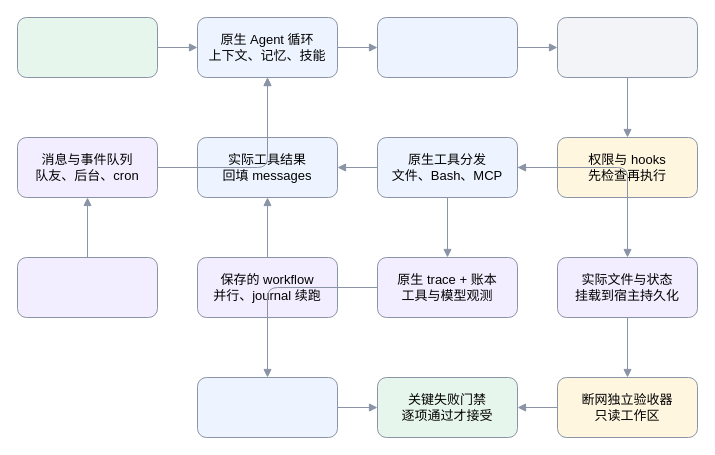
Image size: 715x455. Some labels were removed from this diagram. Each missing label, with the box of its shape:
Messages 模型桥 只传模型请求: (376, 16, 518, 78)
任务与独立目录 队友、Task、worktree: (16, 256, 158, 318)
宿主 Codex 登录留在宿主: (556, 16, 698, 78)
抽取样本再评分 DeepEval / Ragas: (196, 376, 338, 438)
练习任务 Runtime.submit: (16, 16, 158, 78)
